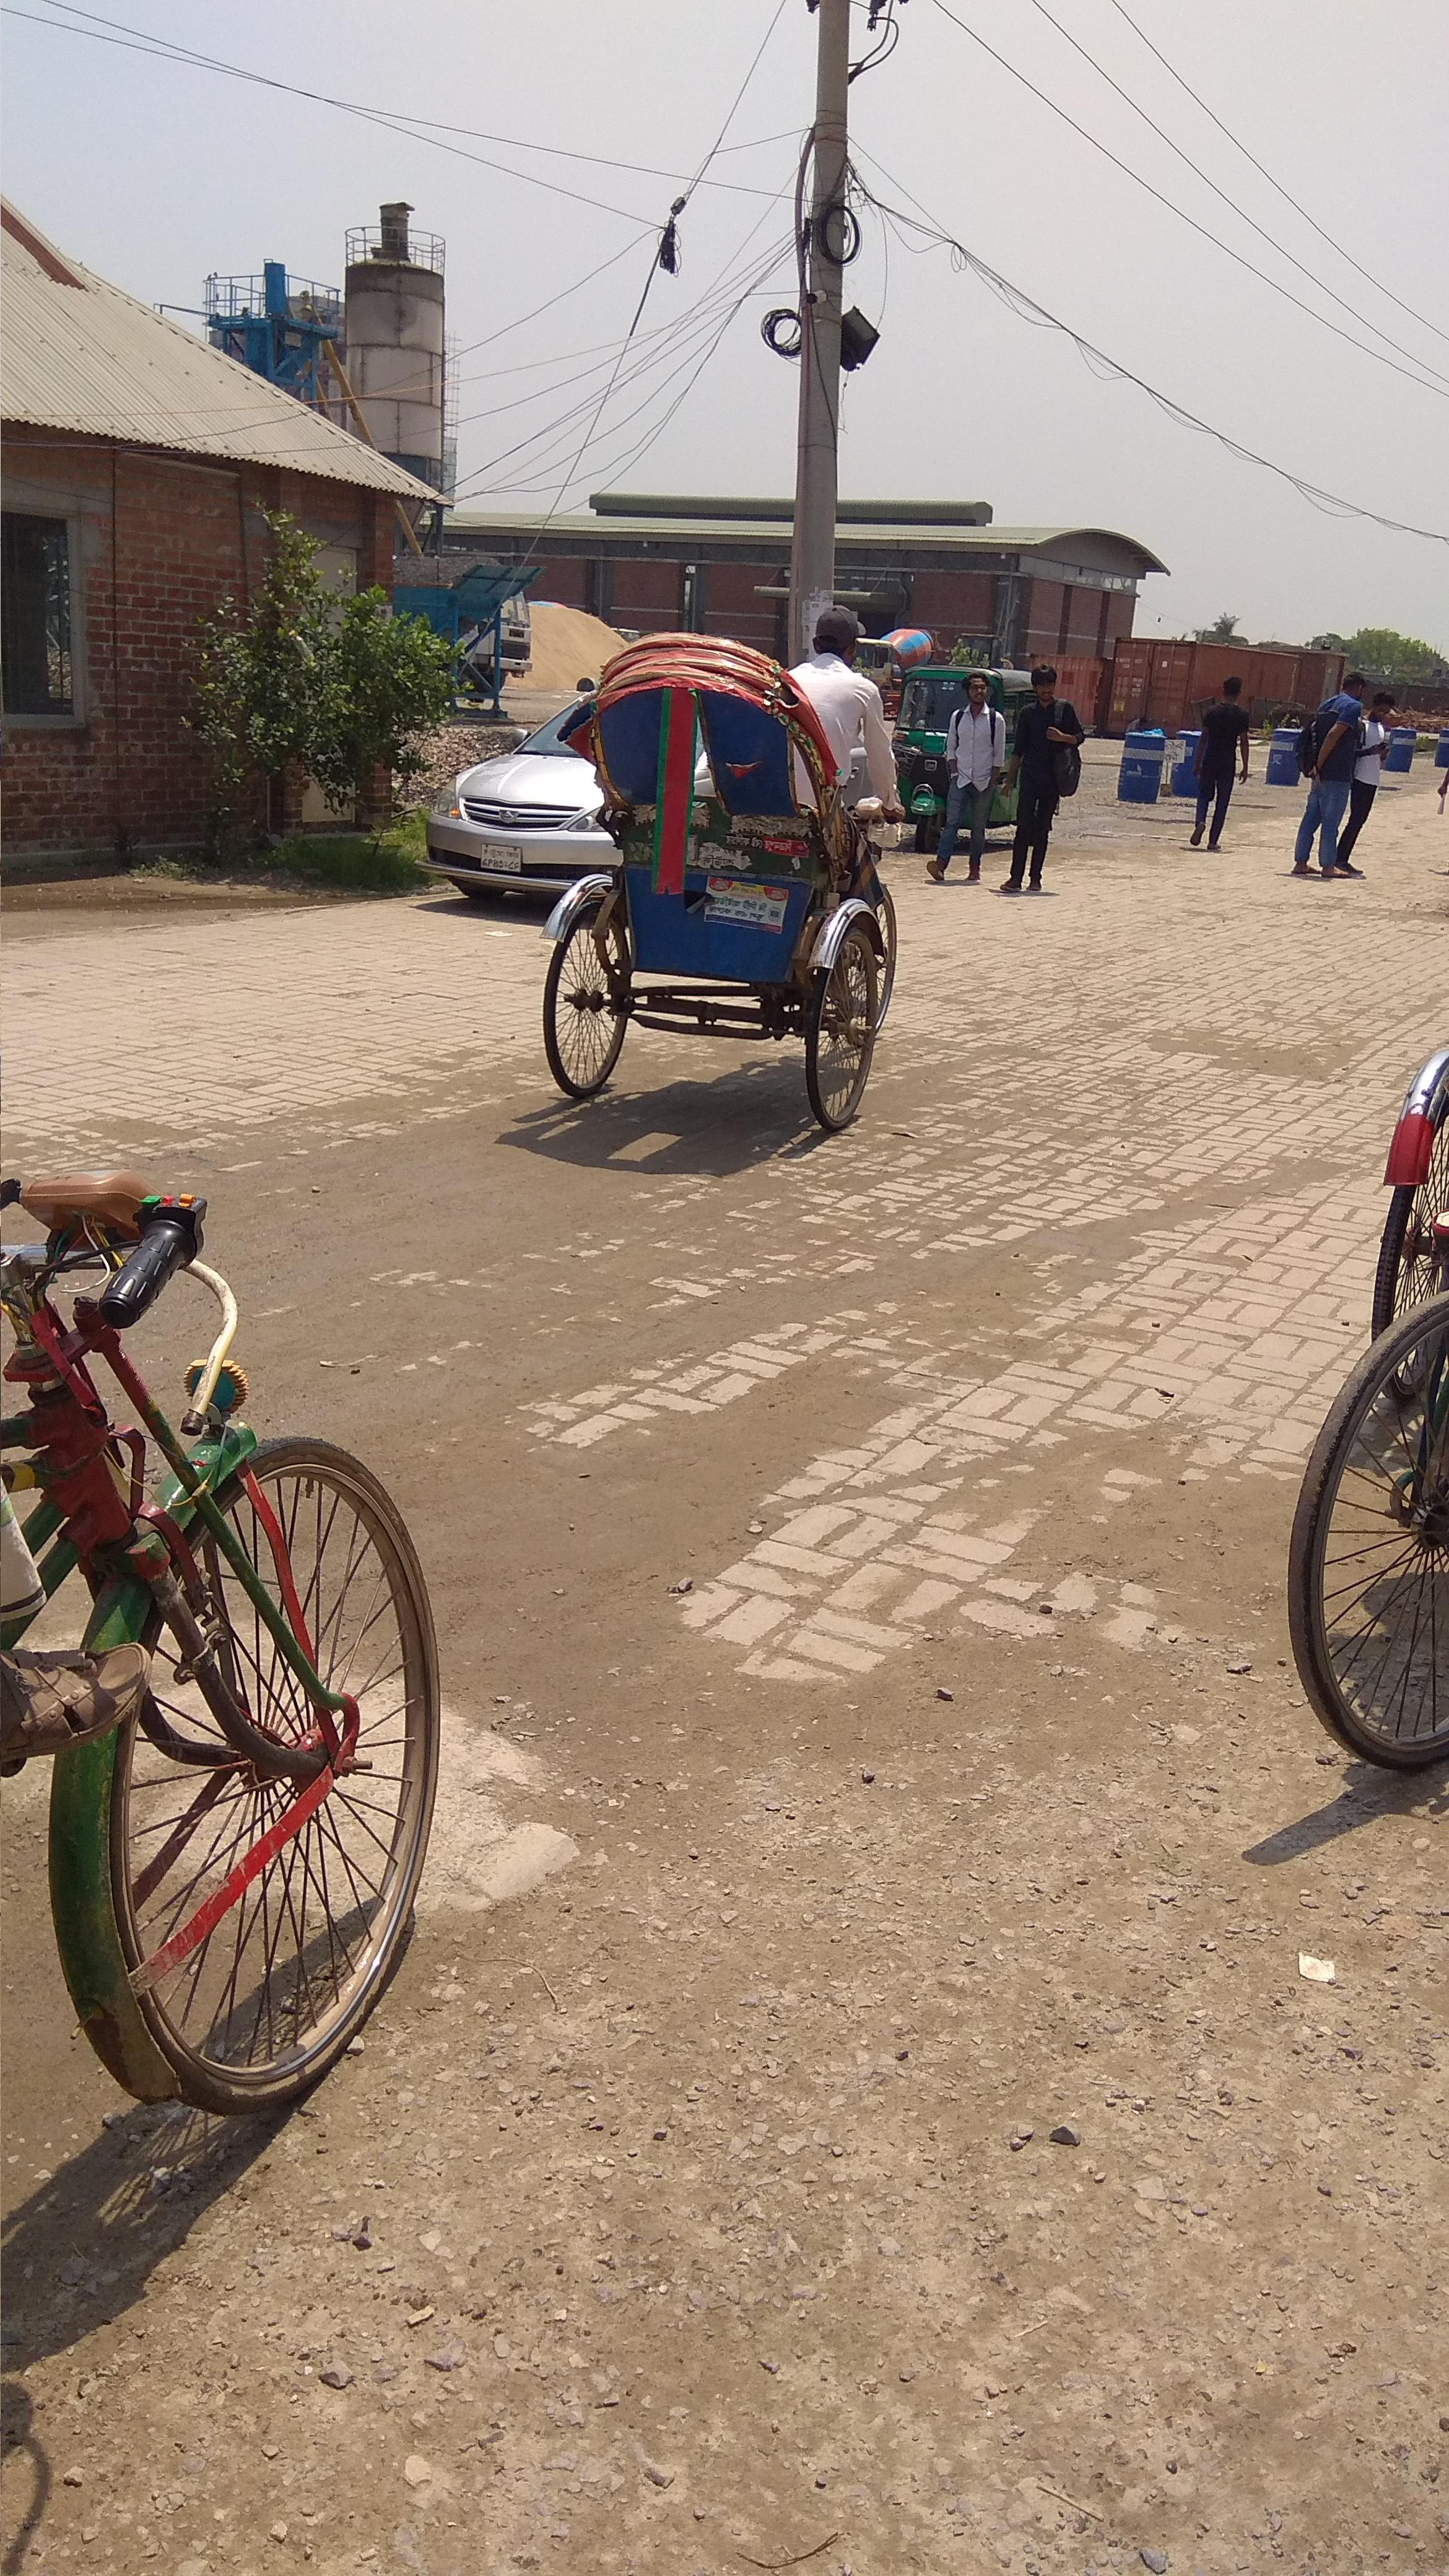Rickshaw: (0, 1134, 428, 2134), (533, 598, 906, 1208)
